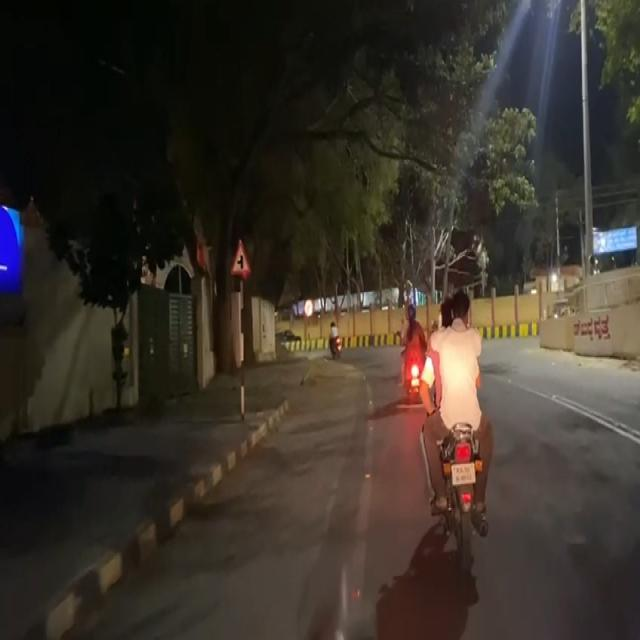bien_cam: (230, 236, 252, 277)
